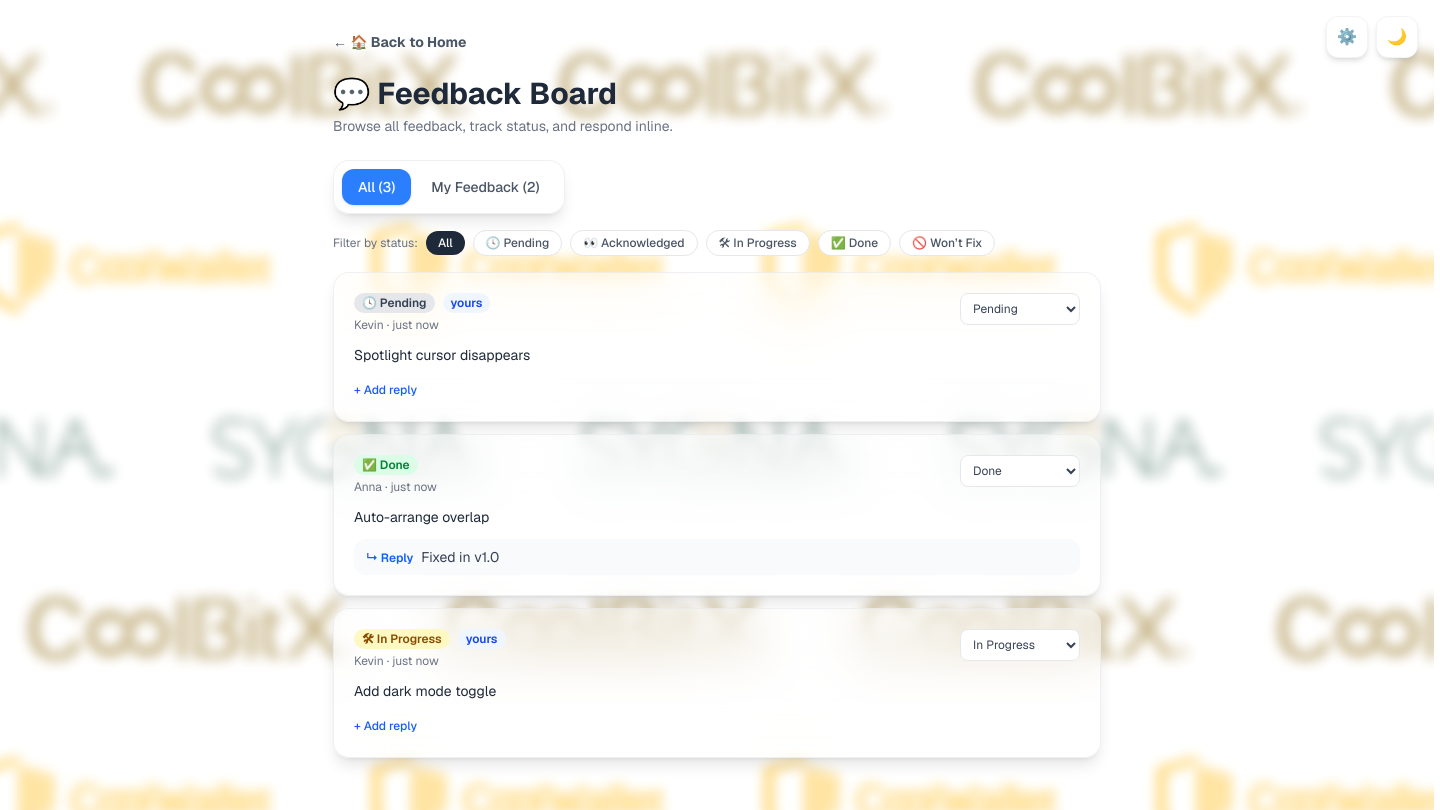
FeedbackDashboard — tabs › My Feedback tab filters to current user’s items
This screenshot has width=1440, height=810.
Expected: the text "Spotlight cursor disappears" is shown, [354, 346, 530, 364]
Click the button "My Feedback (2)" at (485, 187), box [415, 169, 556, 205]
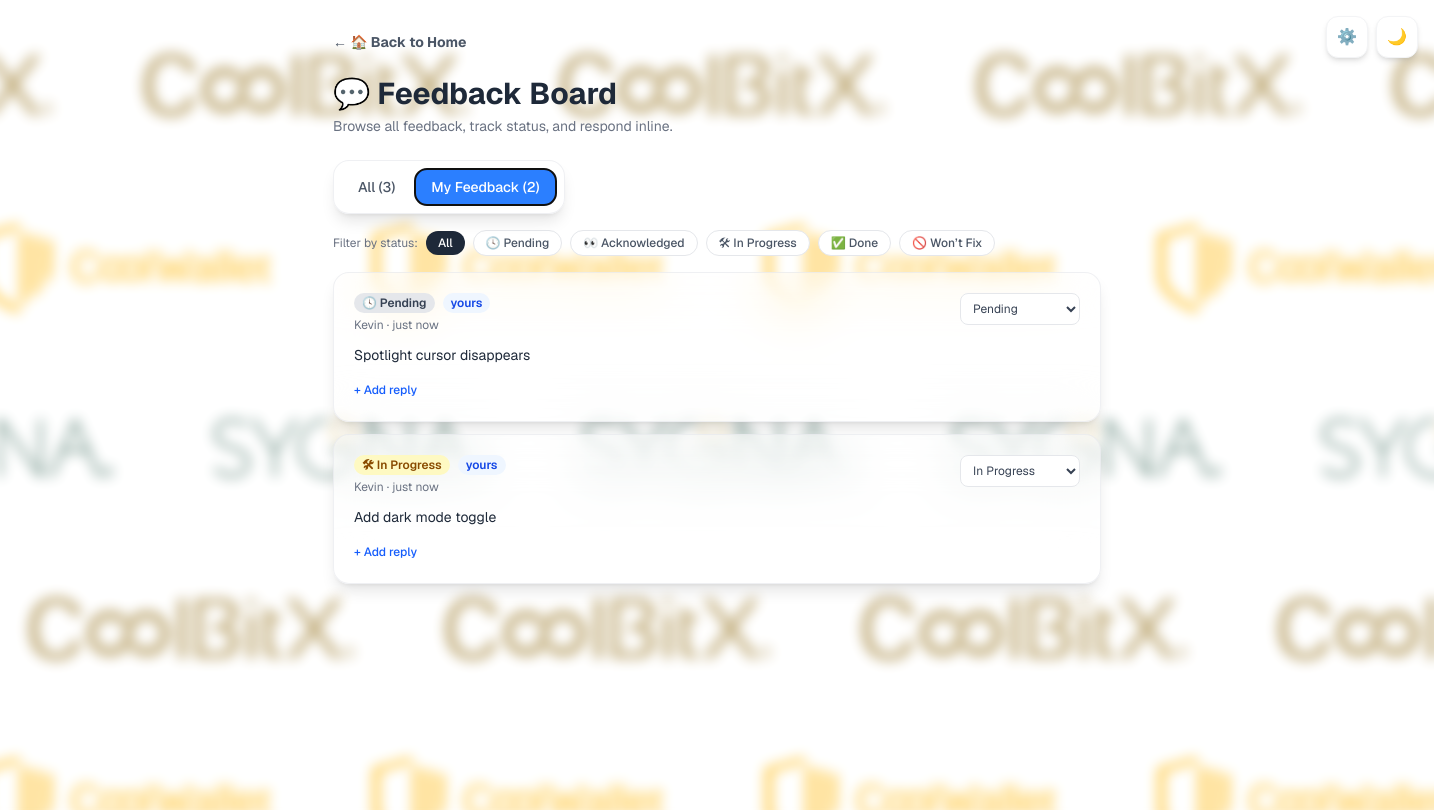
Expected: the text "Spotlight cursor disappears" is shown, [354, 346, 530, 364]
Expected: the text "Auto-arrange overlap" is gone
